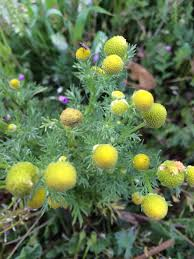pineple: (34, 122, 134, 212)
